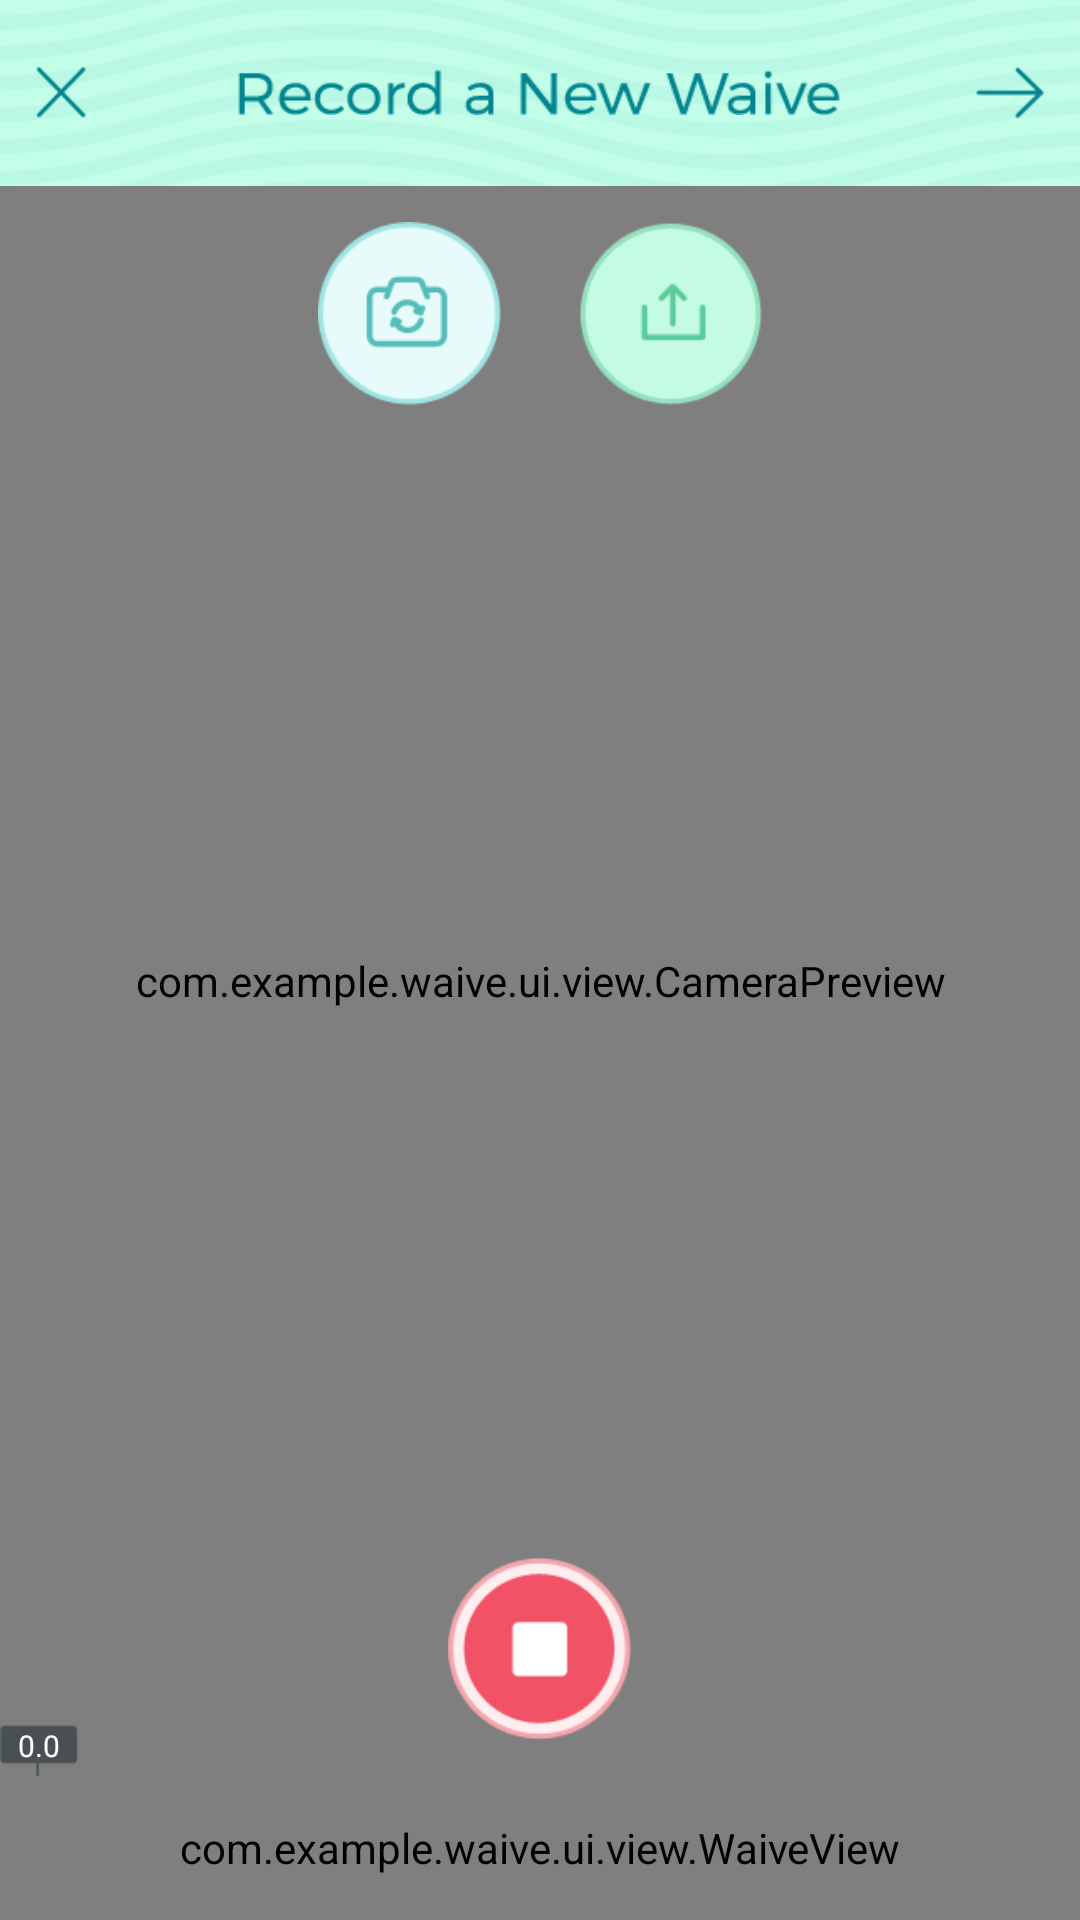

Icon bounding boxes for this 1080 × 1920 phone screenshot, format (x1, y1, x2, y2):
close: (36, 67, 86, 118)
rgt arrow: (976, 67, 1044, 118)
stop: (448, 1558, 631, 1739)
